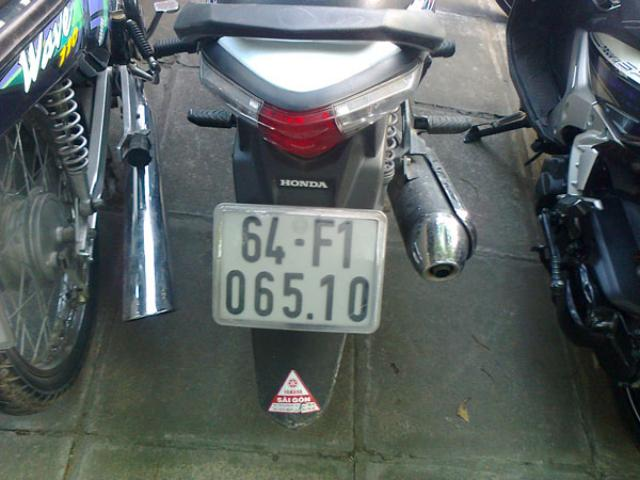plate: (218, 203, 378, 337)
